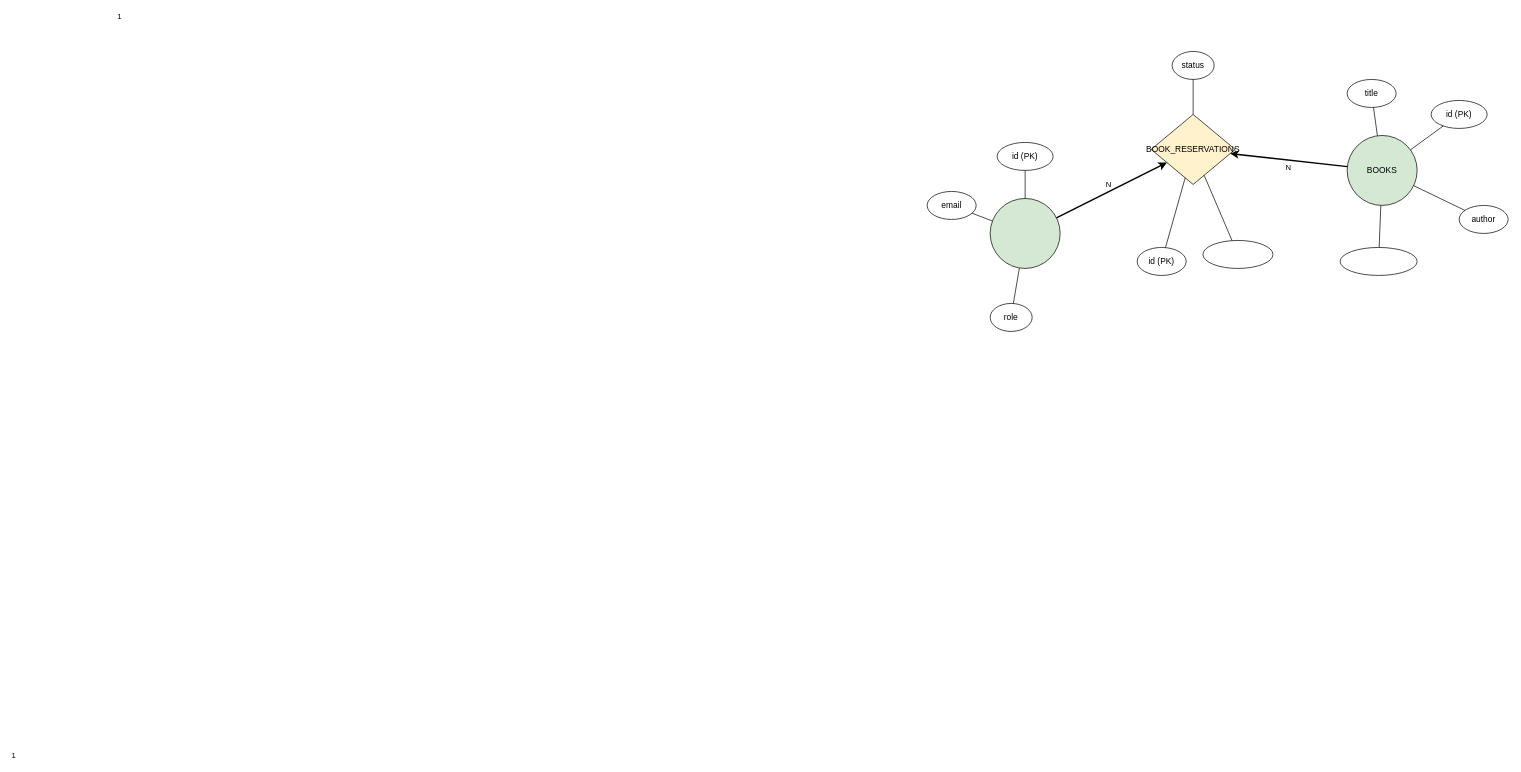
Some shapes in this 1521 by 772 pixel diagram are drawn without their labels. The centre of each missing label's shape, as x and y in pixels:
available_copies: (x=1378, y=261)
queue_position: (x=1237, y=254)
USERS: (x=1024, y=233)
